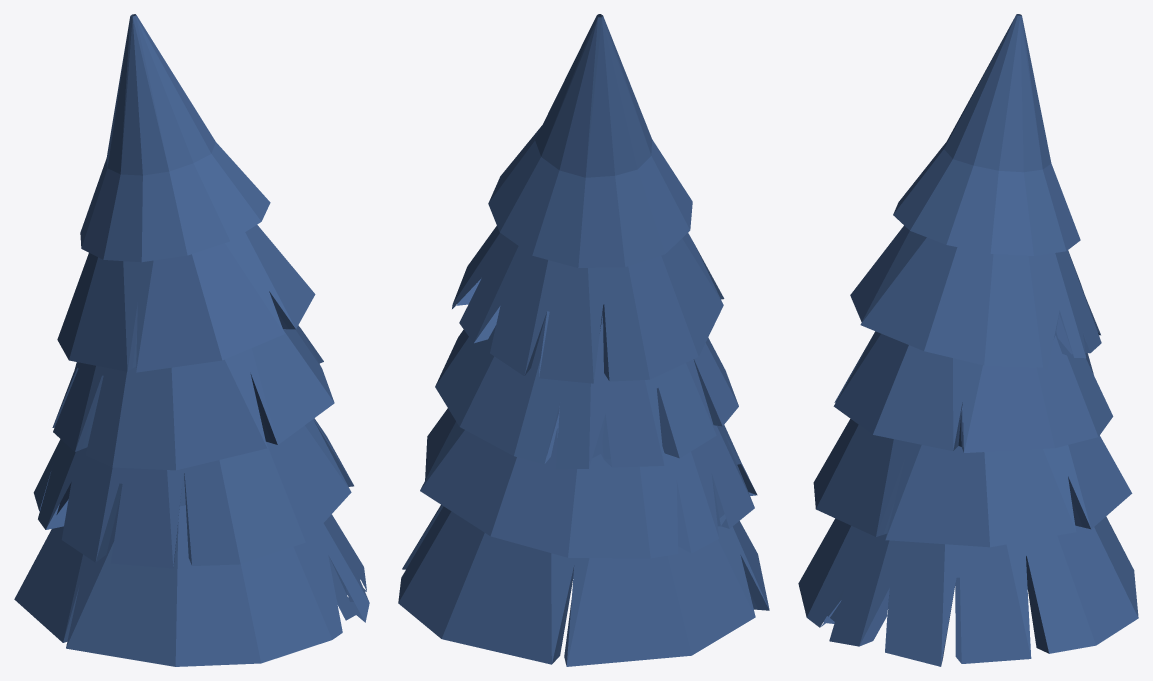
File: tree-winter-leaves-15-045.glb
3 views of the same model, side by side, from view 1: azimuth 30°, elevation 25°; view 2: azimuth 150°, elevation 25°; view 3: azimuth 270°, elevation 25° (orthographic). The views are drawn at different scales.
Parts seen in each view (by area): view 1: TREE 15.011_194; view 2: TREE 15.011_194; view 3: TREE 15.011_194.
Part boxes in pixels (box(x1,y1,x2,y2)): TREE 15.011_194: box(14, 14, 369, 666); TREE 15.011_194: box(398, 14, 769, 666); TREE 15.011_194: box(798, 14, 1138, 666).
Bounding box in the file's own units: 0.8423 × 1.5 × 0.8185.
